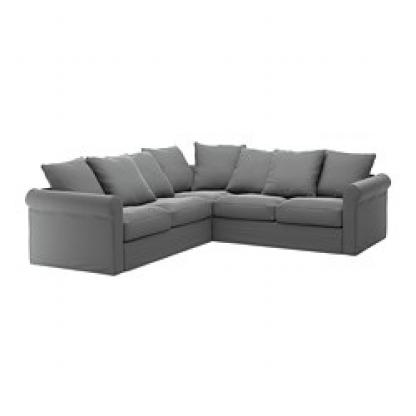Sofa: (15, 101, 396, 298)
